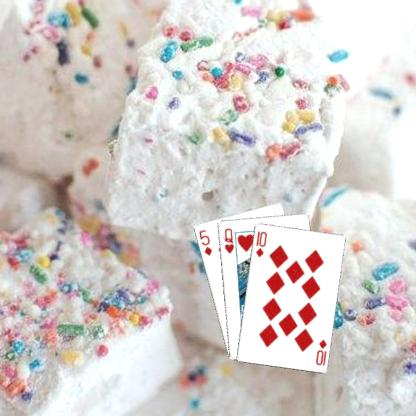10D: (313, 336, 328, 368), (253, 228, 268, 258)
5D: (196, 227, 213, 257)
QH: (222, 225, 235, 254)
